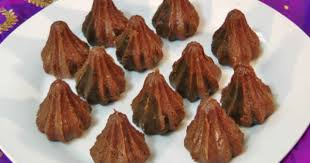modak: (129, 13, 275, 163), (29, 19, 178, 160)
